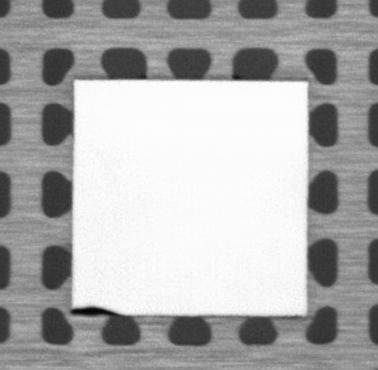DIE_BROKEN: (69, 305, 120, 316)
